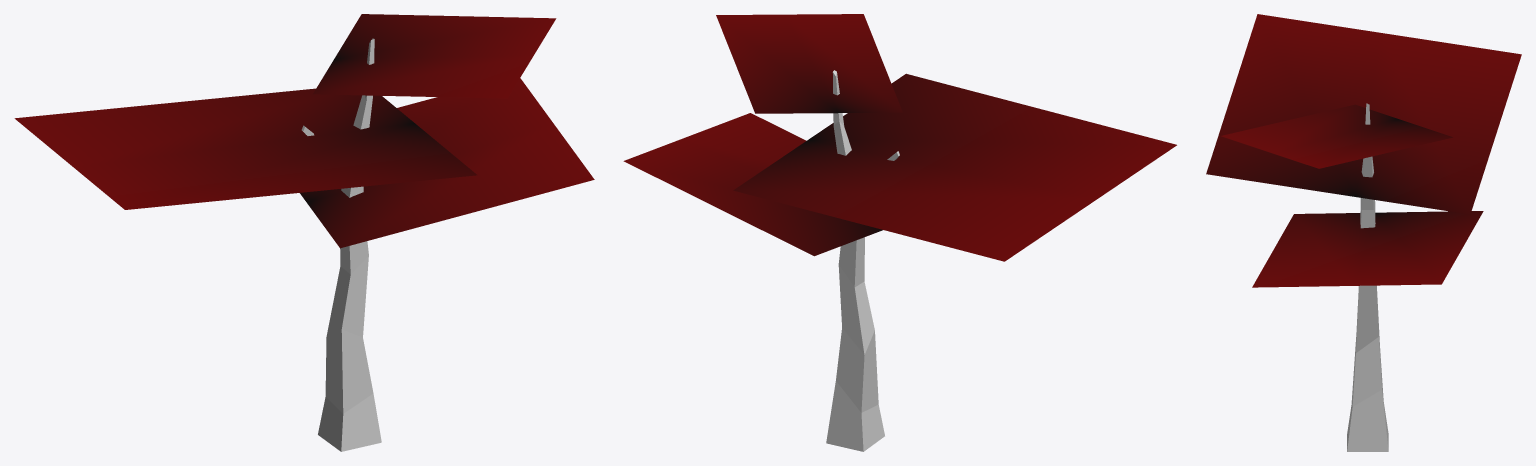
File: WideTree01.fbx
The picture shows the model from 3 angles, left to right: view 1: azimuth 30°, elevation 25°; view 2: azimuth 150°, elevation 25°; view 3: azimuth 270°, elevation 25°; orthographic projection. The views are drawn at different scales.
Parts seen in each view (by area): view 1: LEAFES, TREE; view 2: LEAFES, TREE; view 3: LEAFES, TREE.
Boxes of the visible parts, x1=… form: LEAFES: x1=14, y1=14, x2=594, y2=248; TREE: x1=301, y1=38, x2=381, y2=451; LEAFES: x1=623, y1=14, x2=1176, y2=261; TREE: x1=826, y1=70, x2=899, y2=451; LEAFES: x1=1206, y1=14, x2=1521, y2=287; TREE: x1=1347, y1=103, x2=1388, y2=451.
Size of the model in its own units: 2.11 by 1.61 by 1.31.
